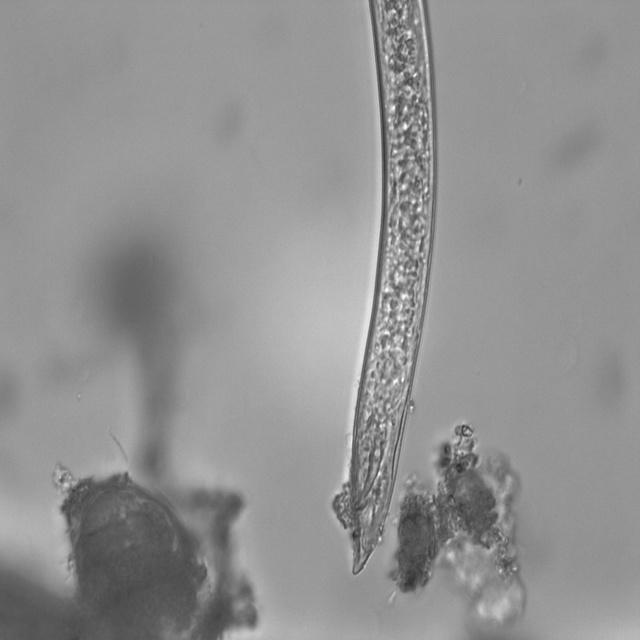Helicotylenchus: (336, 0, 448, 582)
